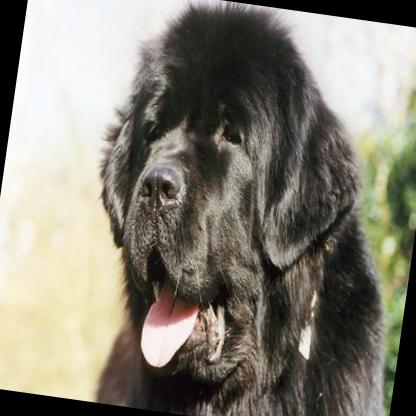Newfoundland: (57, 0, 416, 416)
